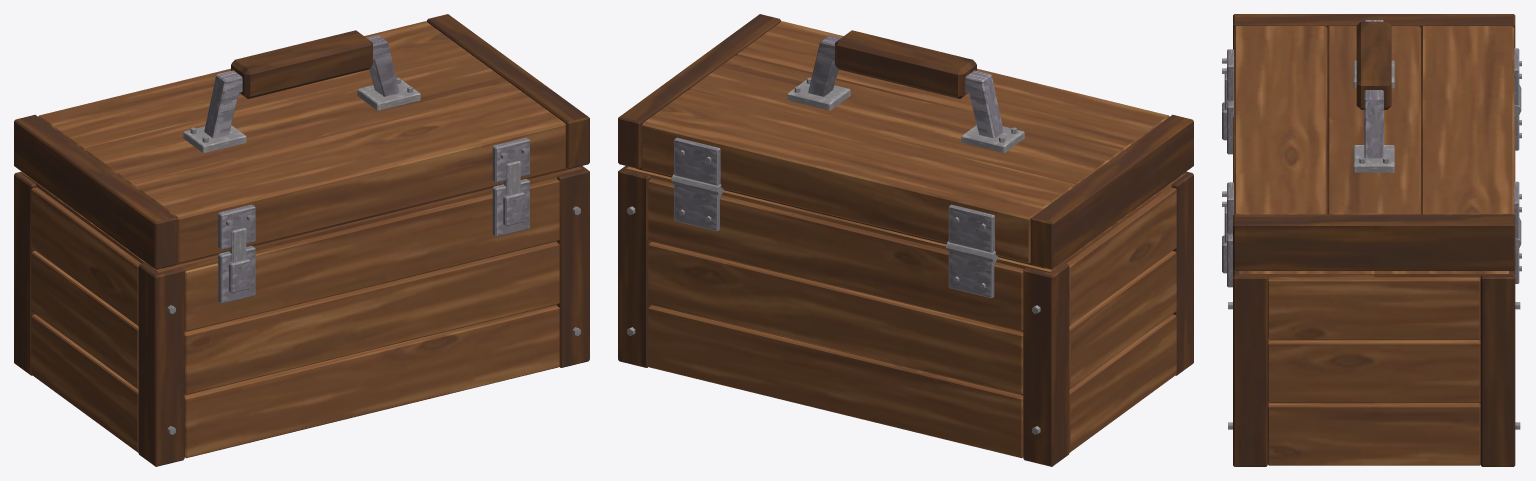
The model's file is refined.glb.
3 renders of one model, left to right at view 1: azimuth 30°, elevation 25°; view 2: azimuth 150°, elevation 25°; view 3: azimuth 270°, elevation 25°, orthographic.
Parts seen in each view (by area): view 1: source; view 2: source; view 3: source.
Boxes of the visible parts, x1,y1,x2,y2 form: source: [14, 14, 589, 466]; source: [618, 14, 1193, 466]; source: [1222, 14, 1521, 466].
Bounding box in the file's own units: 0.46 × 0.316 × 0.276.
Materials: 2 (2 with a texture image).
